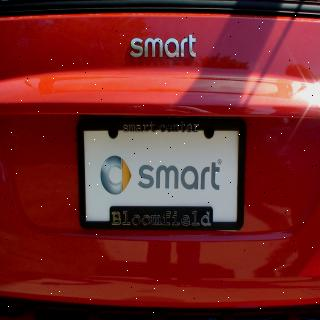license: (78, 118, 247, 233)
